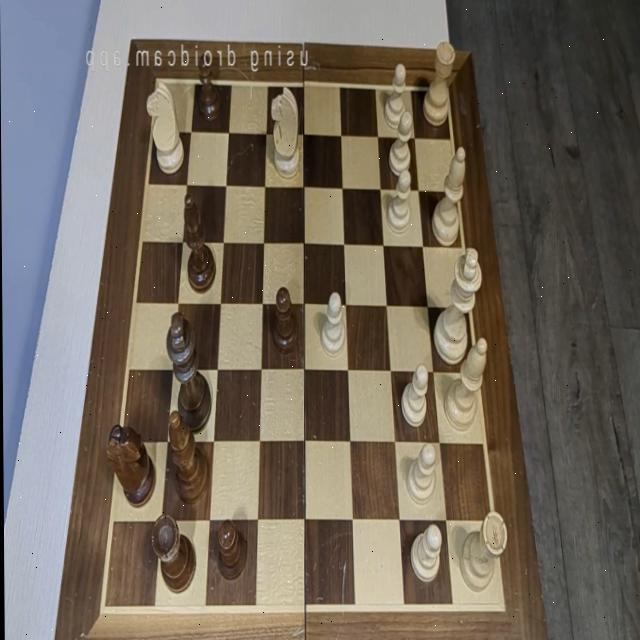black_bishop: (168, 411, 208, 503), (182, 192, 216, 290)
black_king: (166, 312, 209, 429)
black_knight: (105, 423, 155, 508)
black_pawn: (216, 518, 246, 580), (272, 286, 298, 352), (197, 54, 222, 122)
black_rook: (151, 516, 194, 592)
white_bishop: (443, 336, 488, 428), (431, 148, 467, 248)
white_king: (431, 248, 482, 366)
white_knight: (145, 78, 184, 173), (270, 84, 300, 176)
white_pawn: (409, 523, 441, 583), (406, 442, 436, 504), (400, 363, 428, 429), (320, 290, 345, 356), (386, 169, 411, 233), (388, 112, 412, 176), (384, 60, 406, 126)
white_rook: (462, 512, 506, 589), (423, 39, 455, 125)
